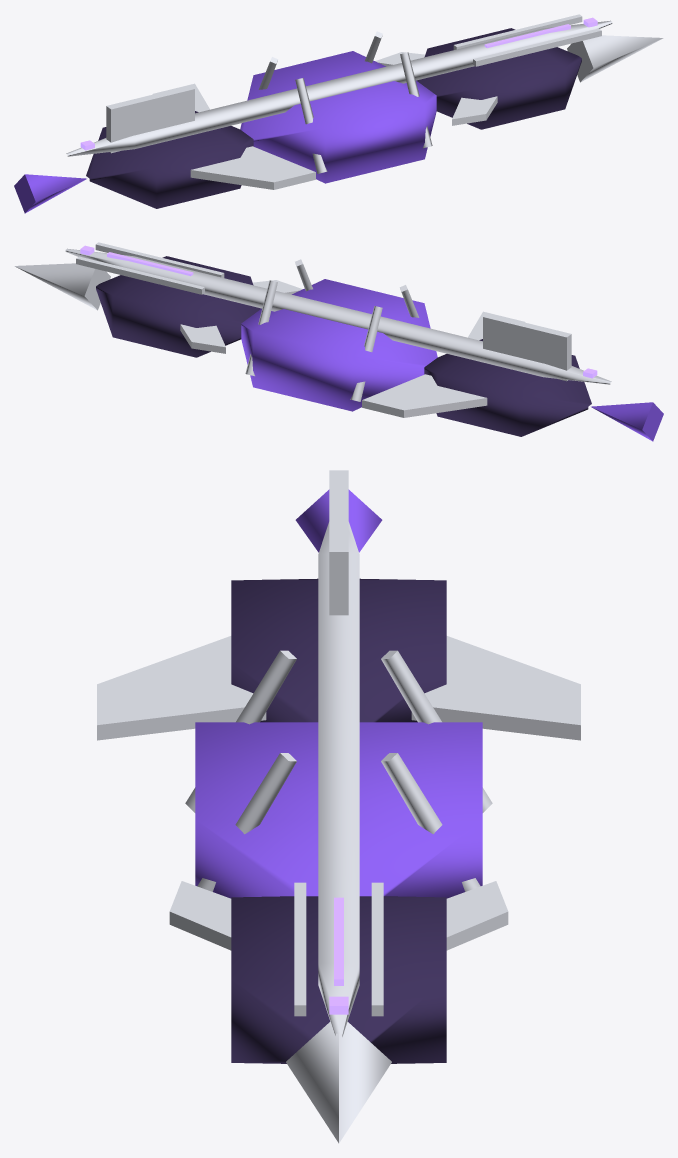
File: chorister-hadron.glb
3 views of the same model, one above another, from view 1: azimuth 30°, elevation 25°; view 2: azimuth 150°, elevation 25°; view 3: azimuth 270°, elevation 25° (orthographic). The views are drawn at different scales.
Visible parts, largest first — view 1: segment_1, segment_0, spine, segment_2, dorsal_fin, guard_s, bow_prism, drive_prism, rail_s, canard_s, rail_p, cage_strut_0 (+3 smaller); view 2: segment_1, segment_0, spine, segment_2, dorsal_fin, guard_p, bow_prism, drive_prism, rail_p, canard_p, rail_s, cage_strut_1 (+3 smaller); view 3: segment_1, segment_0, segment_2, spine, guard_s, guard_p, bow_prism, canard_s, canard_p, dorsal_fin, drive_prism, cage_strut_2 (+5 smaller).
Part boxes in pixels (x1,y1,x2,y2): segment_1: (240,51,436,183); segment_0: (416,28,581,129); spine: (66,20,612,156); segment_2: (86,111,253,208); dorsal_fin: (106,85,194,153); guard_s: (190,146,315,189); bow_prism: (567,35,663,82); drive_prism: (14,174,86,213); rail_s: (473,28,601,66); canard_s: (452,96,497,125); rail_p: (453,14,582,49); cage_strut_0: (295,78,327,173); segment_1: (241,279,437,411); segment_0: (96,256,261,357); spine: (65,248,611,384); segment_2: (424,339,591,436); dorsal_fin: (483,313,571,381); guard_p: (362,374,487,417); bow_prism: (14,263,110,310); drive_prism: (591,402,663,441); rail_p: (76,256,204,294); canard_p: (180,324,225,353); rail_s: (95,242,224,277); cage_strut_1: (350,306,382,401); segment_1: (195,722,482,898); segment_0: (231,896,446,1063); segment_2: (231,578,446,722); spine: (318,522,359,1036); guard_s: (97,636,266,740); guard_p: (411,636,580,740); bow_prism: (286,1022,391,1143); canard_s: (169,881,231,950); canard_p: (446,881,508,950); dorsal_fin: (329,470,348,615); drive_prism: (295,489,382,552); cage_strut_2: (197,753,296,891).
Size of the model in its own units: 50 by 7 by 16.39.
